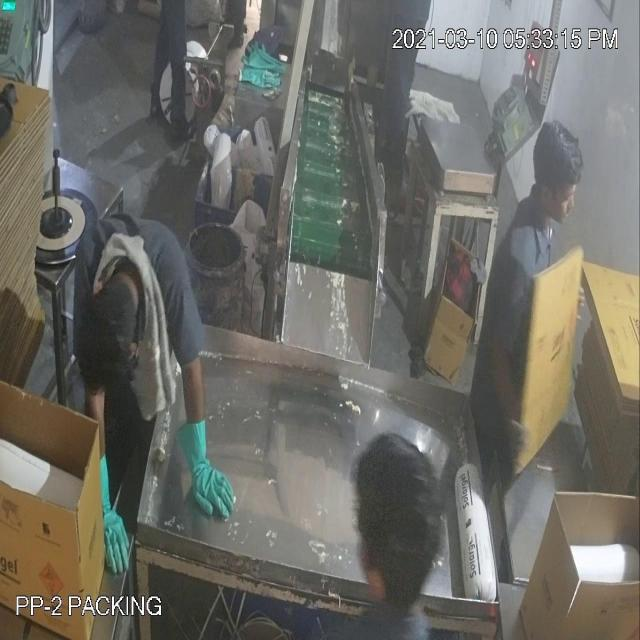Gloves: (51, 122, 207, 512)
